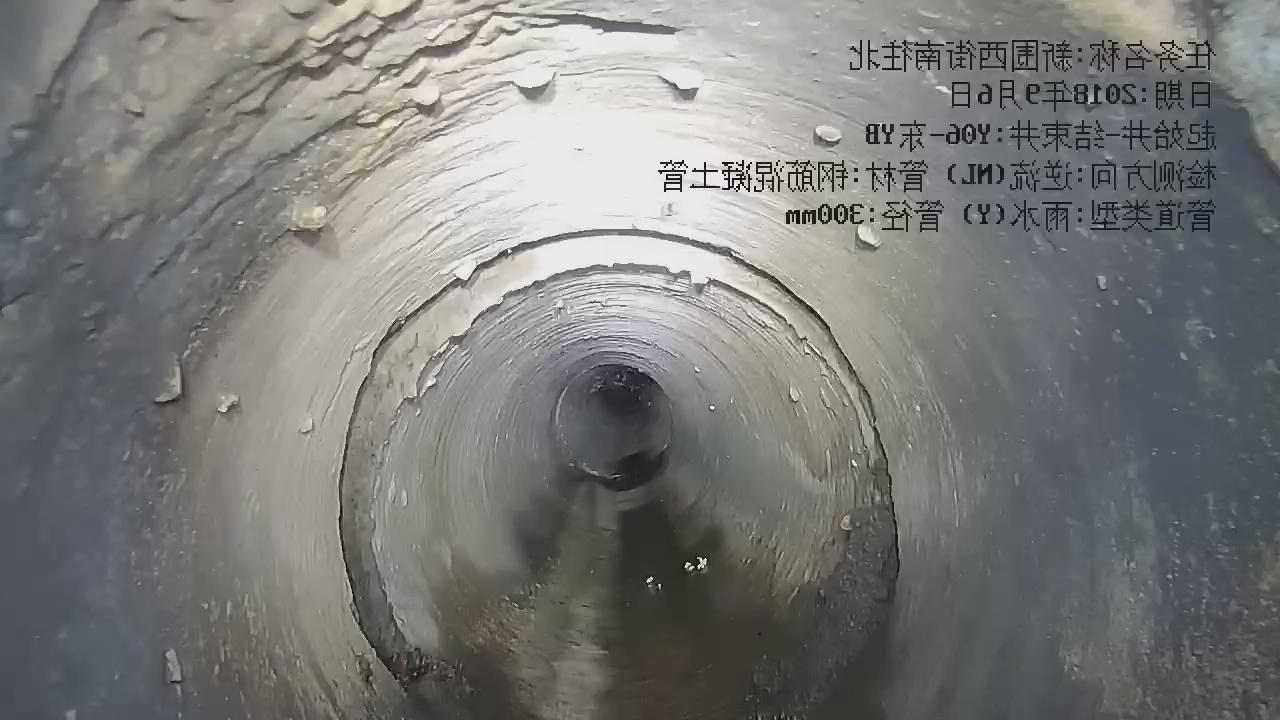CKTJ: (329, 223, 909, 717)
